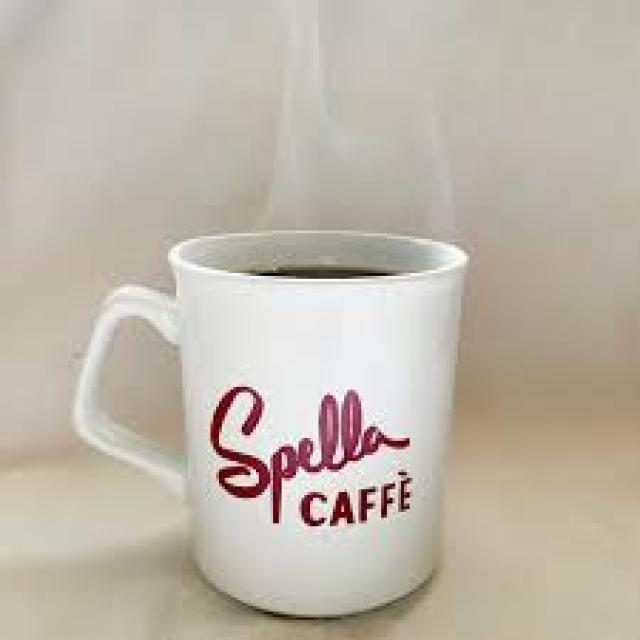taza: (72, 226, 472, 618)
